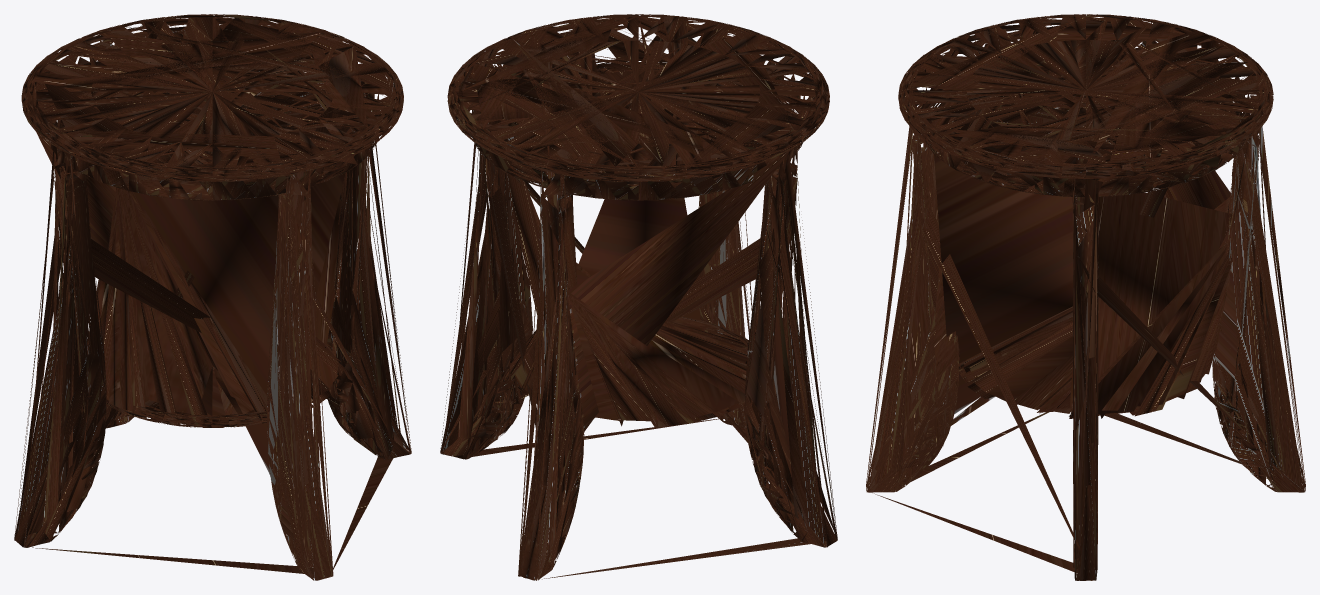
File: ph-side-table-tall-01.glb
3 renders of one model, left to right at view 1: azimuth 30°, elevation 25°; view 2: azimuth 150°, elevation 25°; view 3: azimuth 270°, elevation 25°, orthographic.
Parts seen in each view (by area): view 1: side_table_tall_01; view 2: side_table_tall_01; view 3: side_table_tall_01.
Boxes of the visible parts, x1,y1,x2,y2 form: side_table_tall_01: (14,14,411,580); side_table_tall_01: (440,14,837,580); side_table_tall_01: (866,14,1305,580).
Size of the model in its own units: 1 by 1 by 1.
Materials: 1 (1 with a texture image).
